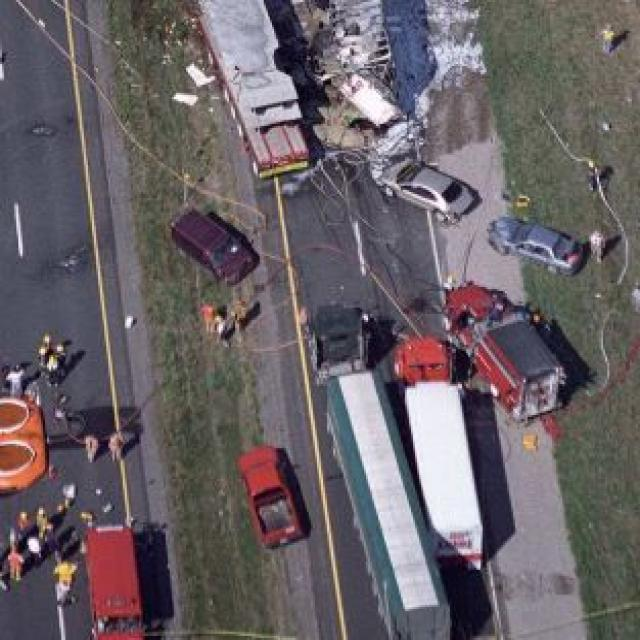traffic_incident: (296, 0, 456, 151), (432, 285, 564, 436)
